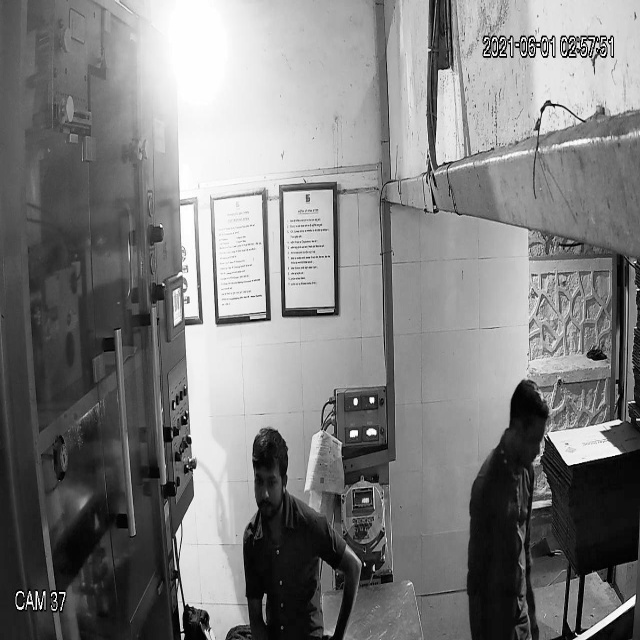Sin_gafas: (249, 468, 289, 498)
